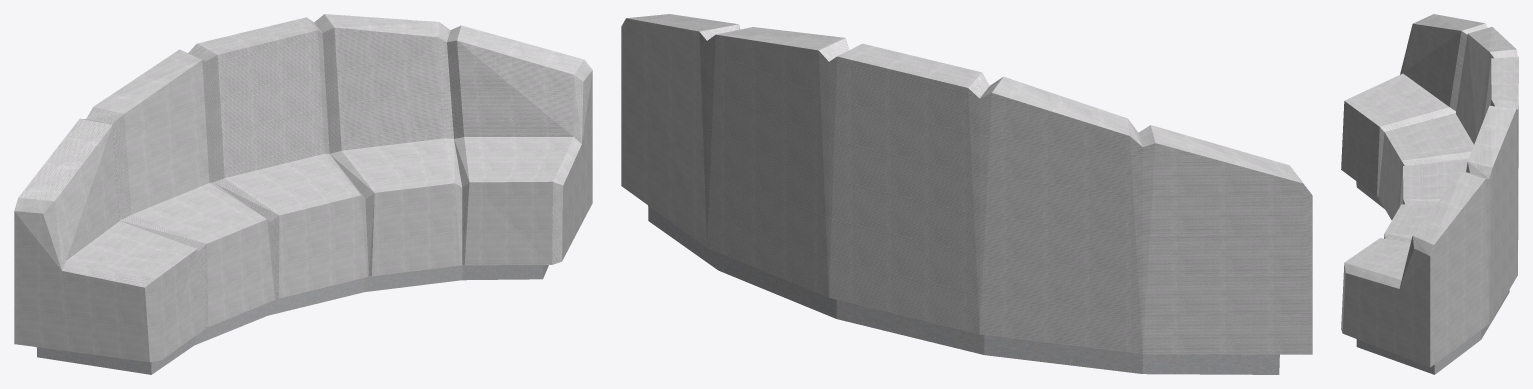
The model's file is frn_all_mdrn_couch_s01_l1.fbx.
3 renders of one model, left to right at view 1: azimuth 30°, elevation 25°; view 2: azimuth 150°, elevation 25°; view 3: azimuth 270°, elevation 25°, orthographic. The views are drawn at different scales.
Parts seen in each view (by area): view 1: mesh_node; view 2: mesh_node; view 3: mesh_node.
Boxes of the visible parts, x1=… form: mesh_node: x1=14, y1=14, x2=592, y2=374; mesh_node: x1=621, y1=14, x2=1312, y2=374; mesh_node: x1=1341, y1=14, x2=1518, y2=374.
Bounding box in the file's own units: 4.32 × 1.61 × 1.37.
